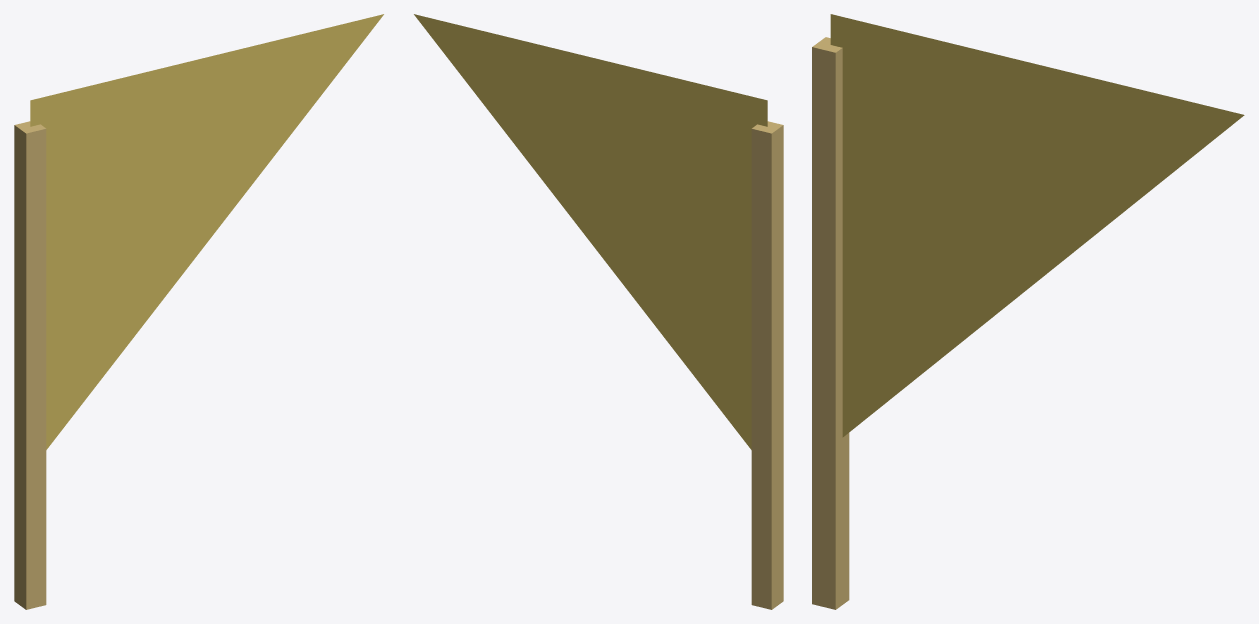
Rendered from pennant-yellow.glb.
The picture shows the model from 3 angles, left to right: view 1: azimuth 30°, elevation 25°; view 2: azimuth 150°, elevation 25°; view 3: azimuth 330°, elevation 25°; orthographic projection. The views are drawn at different scales.
Visible parts, largest first — view 1: flag, pennant-yellow; view 2: flag, pennant-yellow; view 3: flag, pennant-yellow.
Boxes of the visible parts, x1,y1,x2,y2 form: flag: [30, 14, 383, 449]; pennant-yellow: [14, 121, 46, 609]; flag: [414, 14, 767, 449]; pennant-yellow: [751, 121, 783, 609]; flag: [830, 14, 1244, 437]; pennant-yellow: [812, 37, 849, 609].
Bounding box in the file's own units: 0.36 × 0.475 × 0.02.
